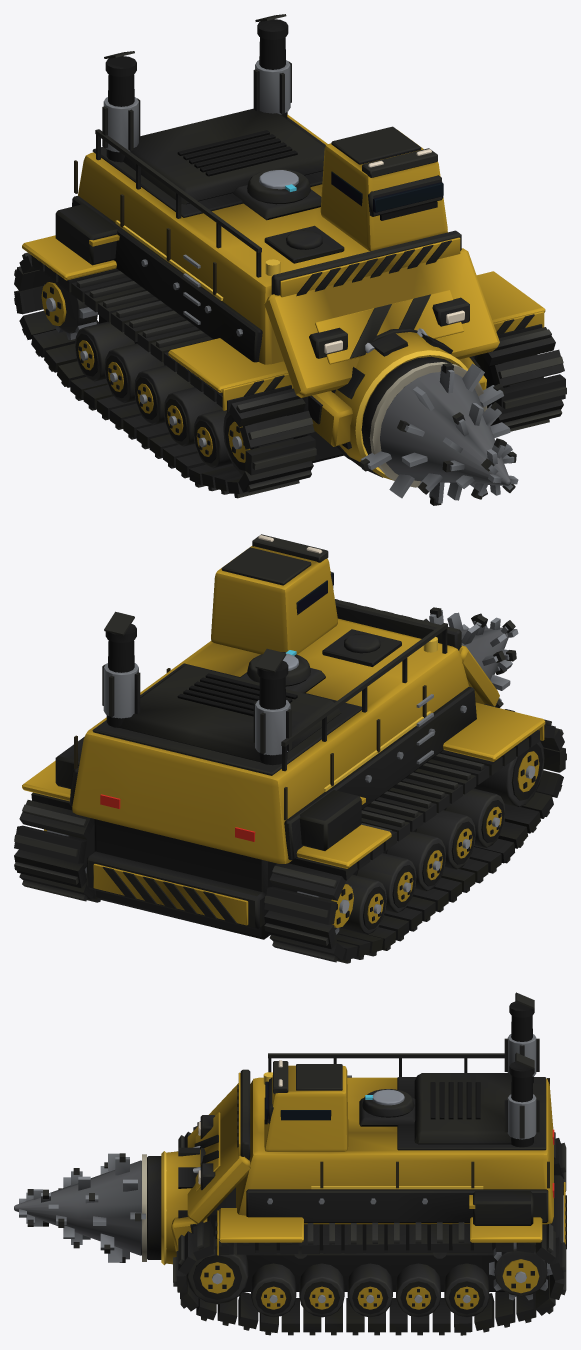
The model's file is ex_crawler_3.glb.
3 renders of one model, top to bottom at view 1: azimuth 30°, elevation 25°; view 2: azimuth 150°, elevation 25°; view 3: azimuth 270°, elevation 25°, orthographic. The views are drawn at different scales.
Visible parts, largest first — view 1: body, drill, wheel_9, wheel_10, wheel_11, wheel_12, wheel_7, wheel_13, wheel_8; view 2: body, drill, wheel_8, wheel_10, wheel_11, wheel_12, wheel_13, wheel_9, wheel_7; view 3: body, drill, wheel_1, wheel_0, wheel_5, wheel_6, wheel_2, wheel_4, wheel_3.
Boxes of the visible parts, x1,y1,x2,y2 form: body: [14, 14, 566, 498]; drill: [360, 356, 518, 505]; wheel_9: [75, 321, 134, 381]; wheel_10: [104, 343, 164, 403]; wheel_11: [134, 365, 193, 424]; wheel_12: [163, 387, 222, 446]; wheel_7: [41, 277, 98, 339]; wheel_13: [193, 409, 232, 468]; wheel_8: [223, 412, 293, 475]; body: [14, 534, 566, 963]; drill: [401, 607, 518, 707]; wheel_8: [475, 741, 544, 807]; wheel_10: [356, 853, 416, 912]; wheel_11: [386, 831, 445, 891]; wheel_12: [415, 810, 475, 869]; wheel_13: [445, 788, 505, 847]; wheel_9: [339, 874, 386, 934]; wheel_7: [297, 880, 353, 934]; body: [161, 992, 566, 1335]; drill: [14, 1153, 161, 1262]; wheel_1: [186, 1236, 248, 1304]; wheel_0: [489, 1242, 552, 1300]; wheel_5: [299, 1263, 344, 1317]; wheel_6: [251, 1263, 296, 1317]; wheel_2: [444, 1263, 489, 1317]; wheel_4: [347, 1263, 392, 1317]; wheel_3: [396, 1263, 440, 1317].
Size of the model in its own units: 5.86 by 5.19 by 10.53.
